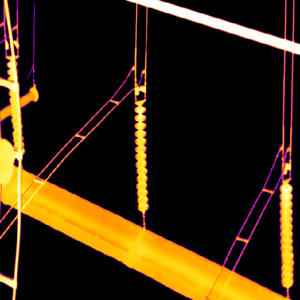insulator: (133, 96, 149, 212), (5, 56, 24, 153), (279, 181, 293, 286)
